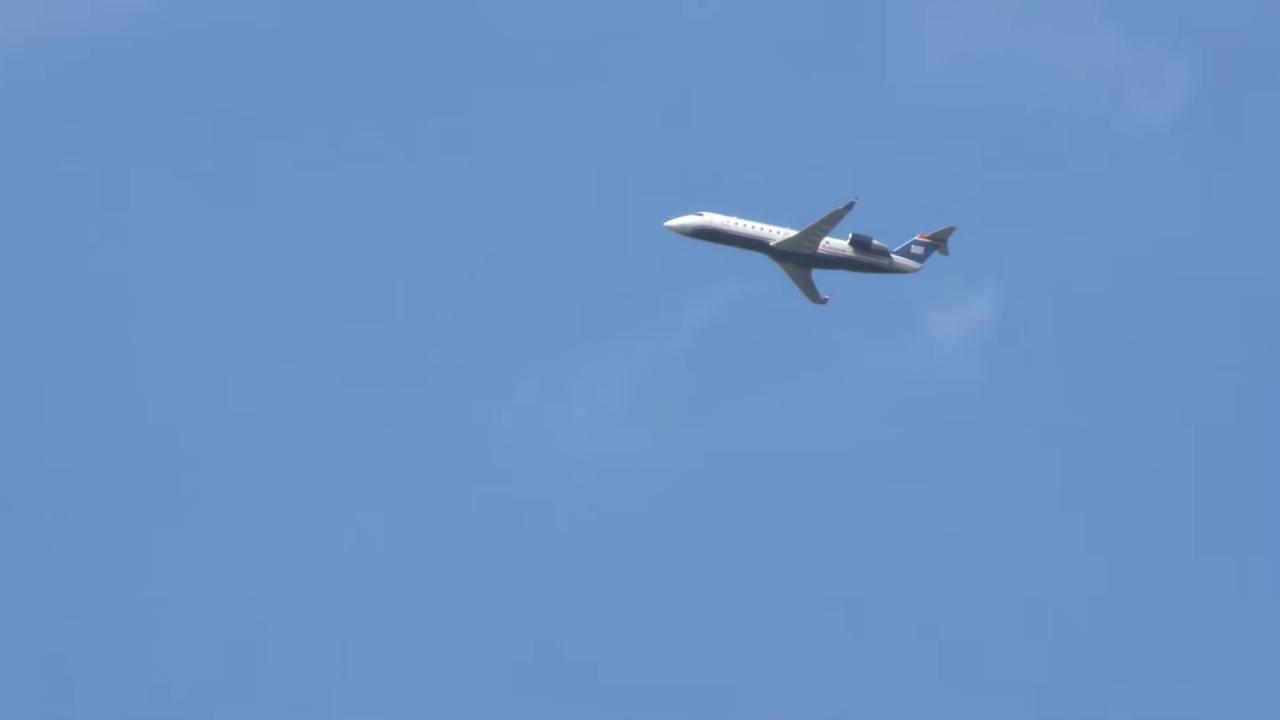Airplane: (643, 185, 966, 320)
